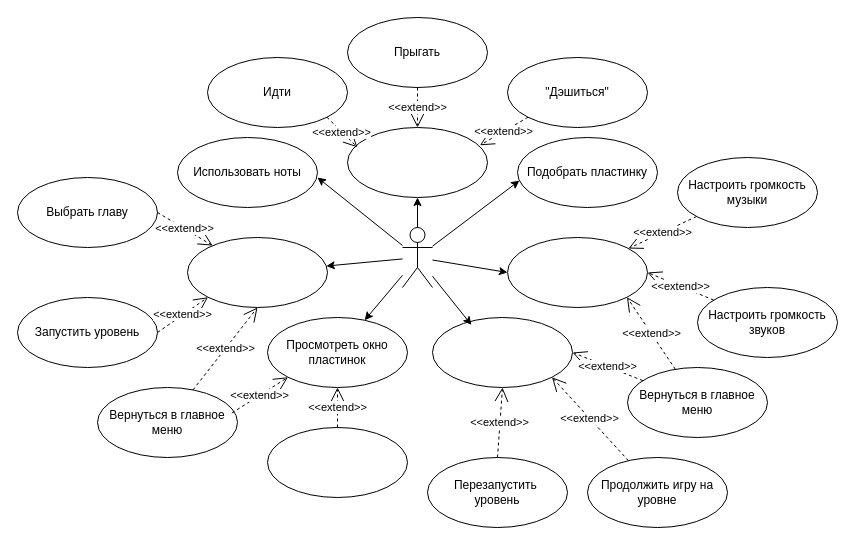
The diagram is 855 pixels wide and 545 high, and some of its shapes have lost their labels. Here are the shapes that lost their labels. From the top down, the centre of each, then its label:
At point 417,162: "Перемещаться".
At point 257,272: "Просмотреть окно выбора уровня".
At point 417,257: "Игрок".
At point 577,272: "Просмотреть окно настроек".
At point 502,352: "Просмотреть окно паузы".
At point 337,462: "Воспроизвести пластинку".
